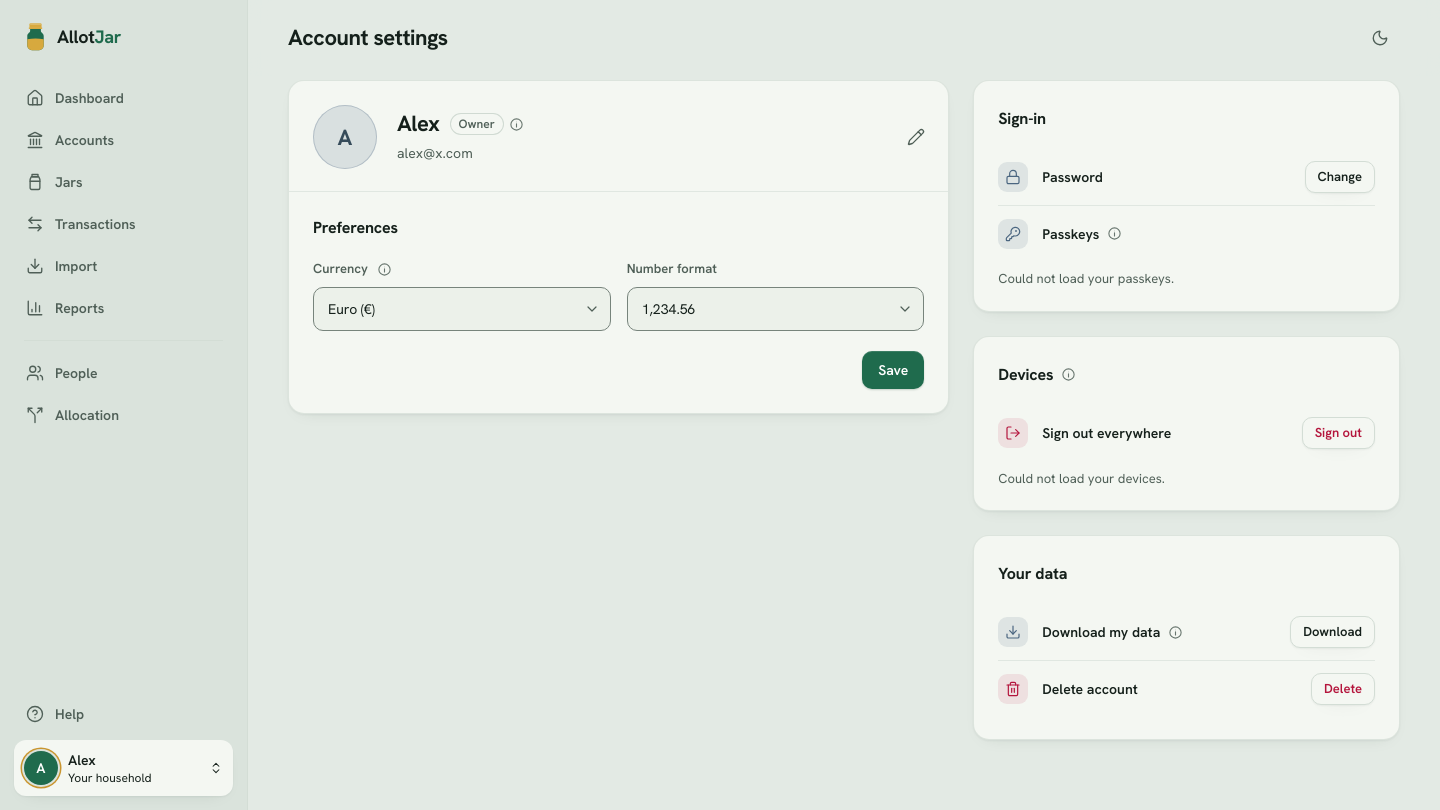
Test: AccountPage: Delete account › shows the server's refusal and stays open ({"errors":{"Id":["A refund elsewhere names a purchase."]}})
Click the button with aria-label "Delete account": (1343, 689) [1311,673,1375,705]
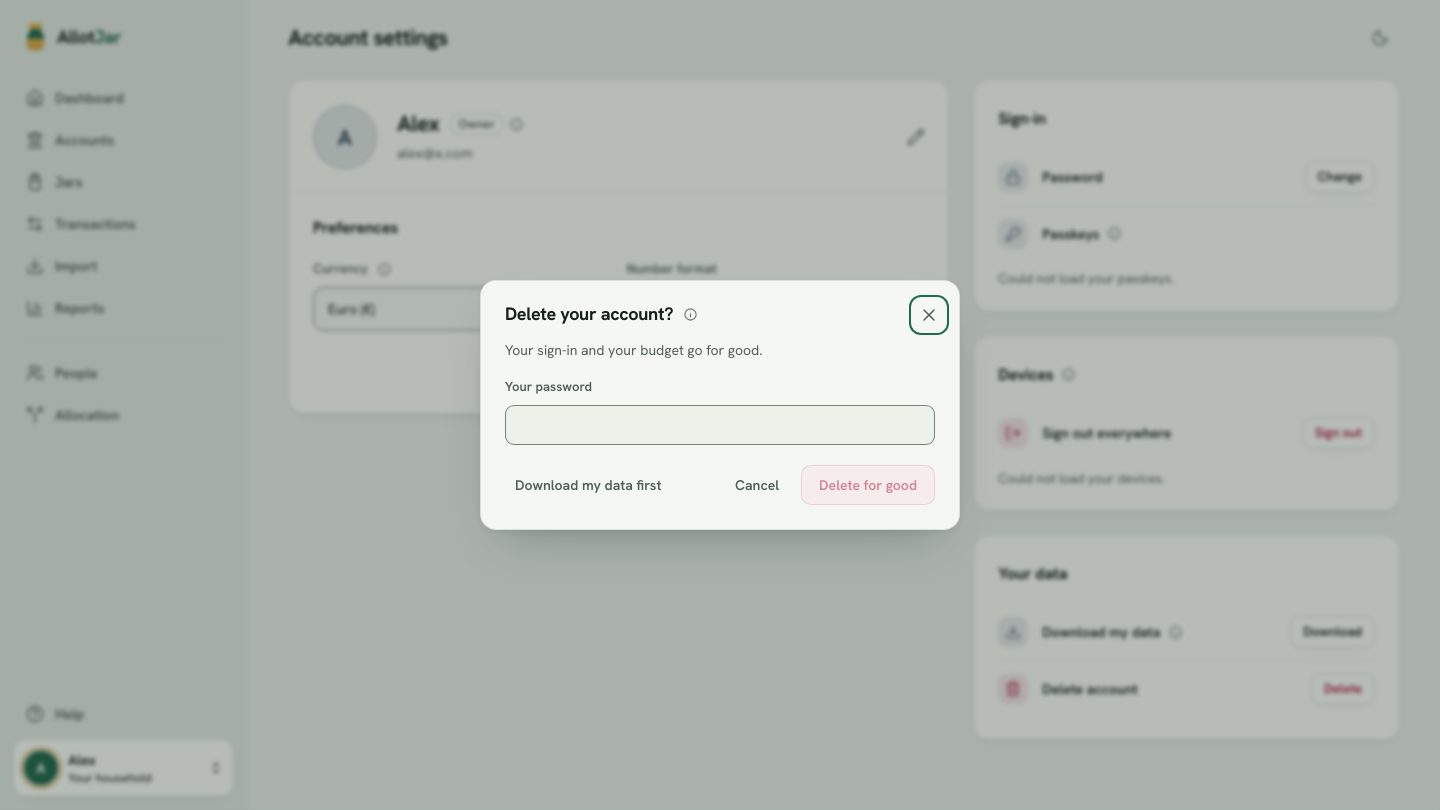
In the password field labelled "Your password": (720, 425) [517,405,923,445], type "wrong"
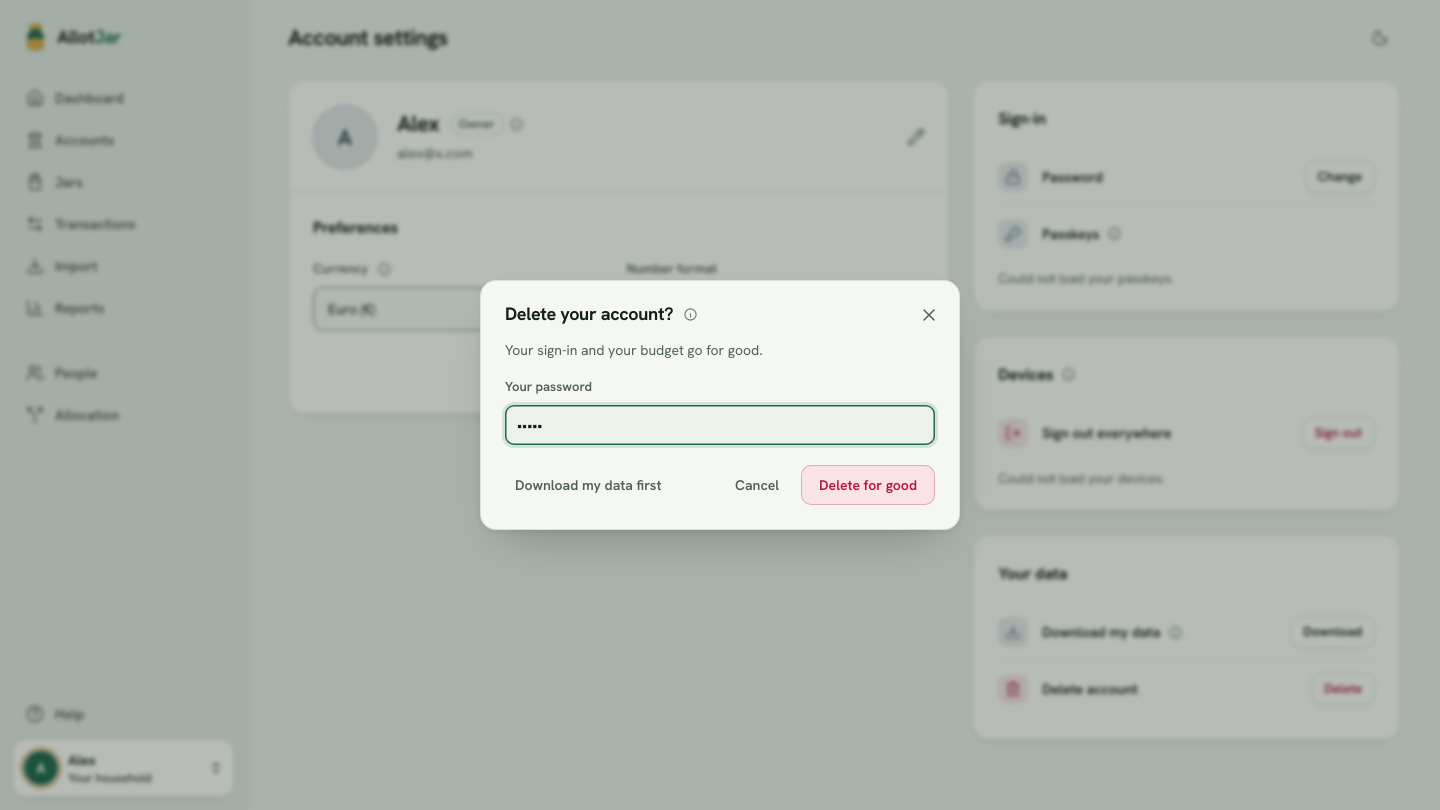
Click the button "Delete for good": (868, 485) [801,465,935,505]
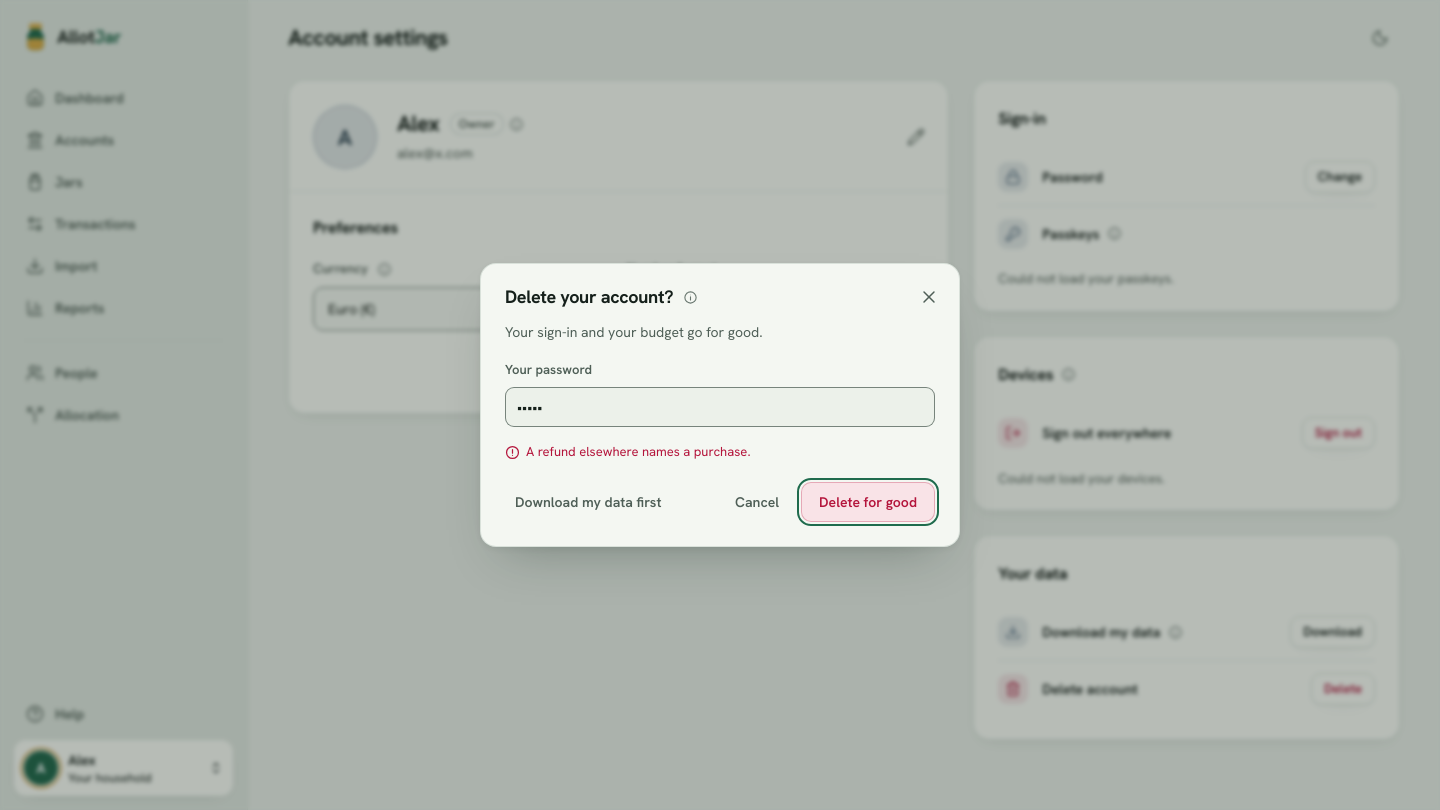
Expected: the message reads "A refund elsewhere names a purchase.", [526,443,750,460]
